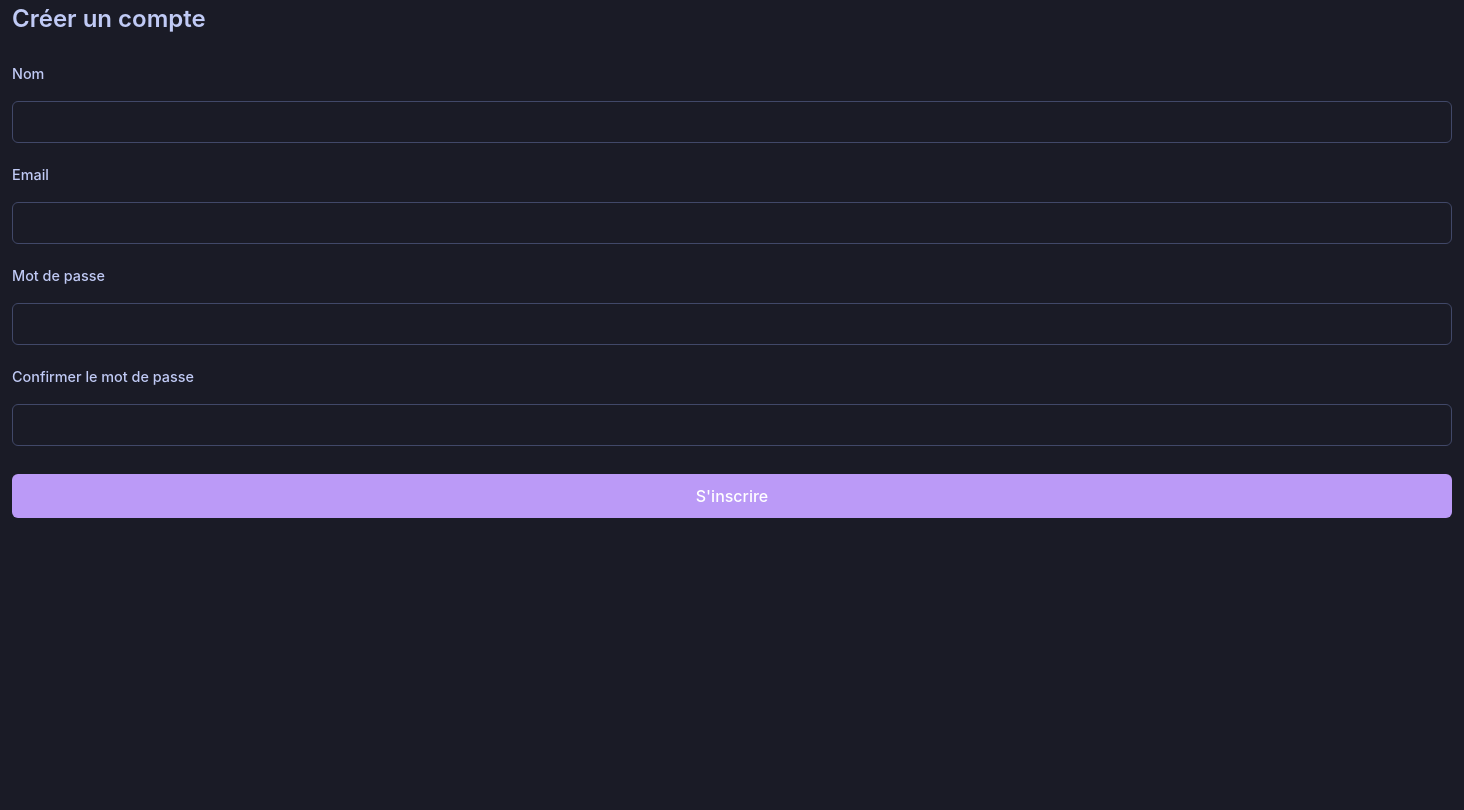
Test: RegisterForm › devrait valider que les mots de passe correspondent
The image size is (1464, 810).
Type "John Doe" into the field named "nom" at point(732, 122), box [12,101,1452,143]
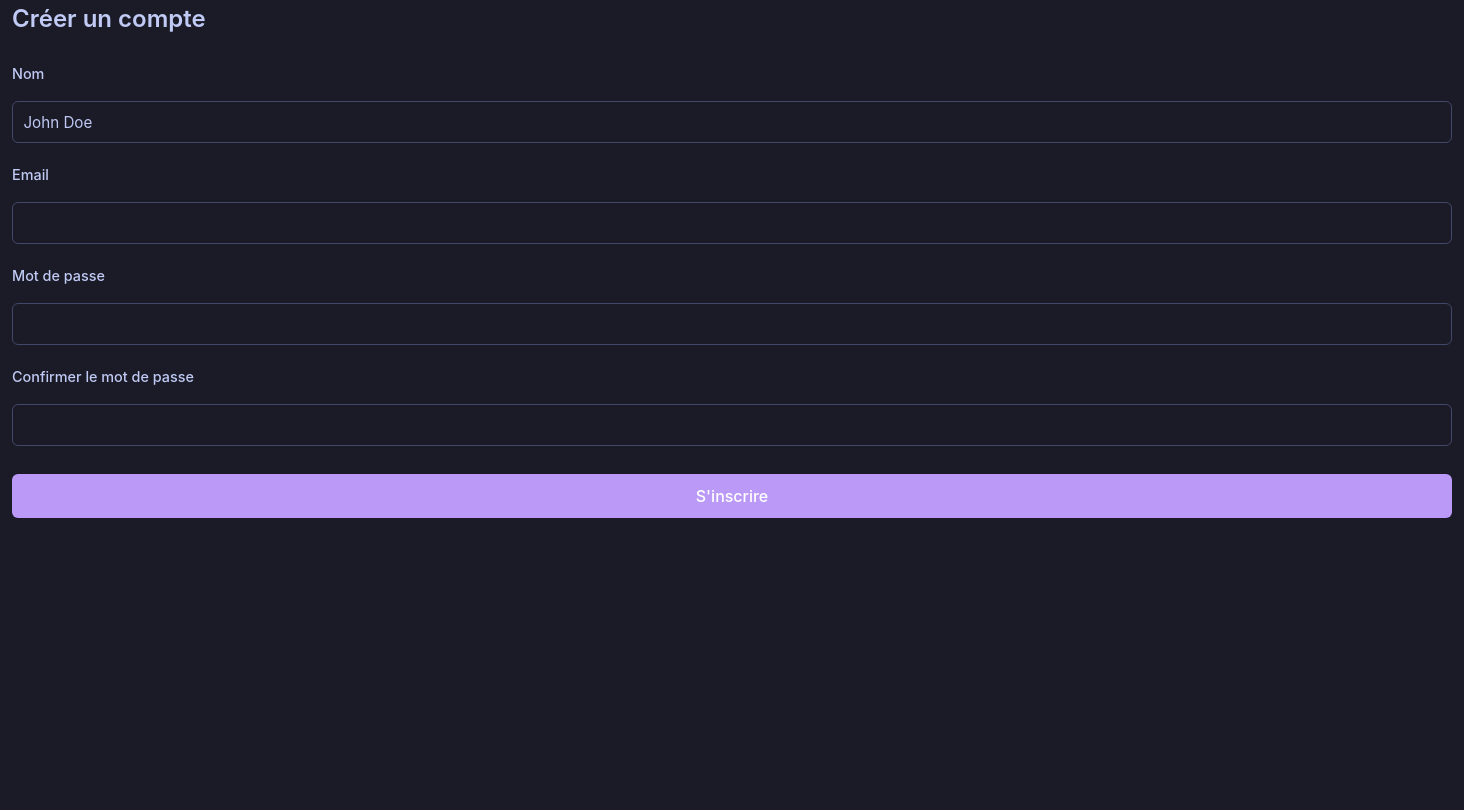
Type "test@example.com" into the field labelled "Email" at point(732, 223), box [12,202,1452,244]
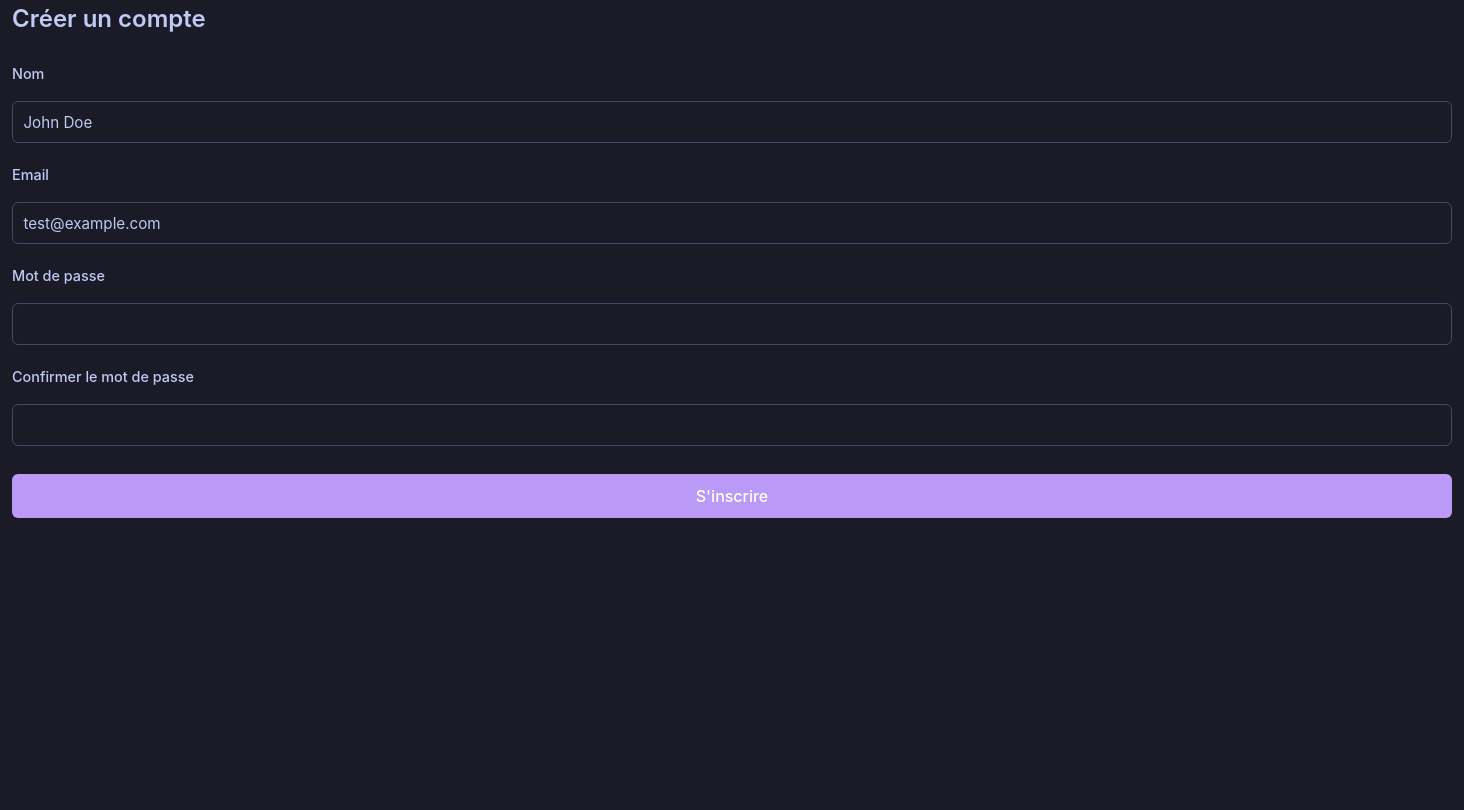
Type "Password123!" into the password field named "password" at point(732, 324), box [12,303,1452,345]
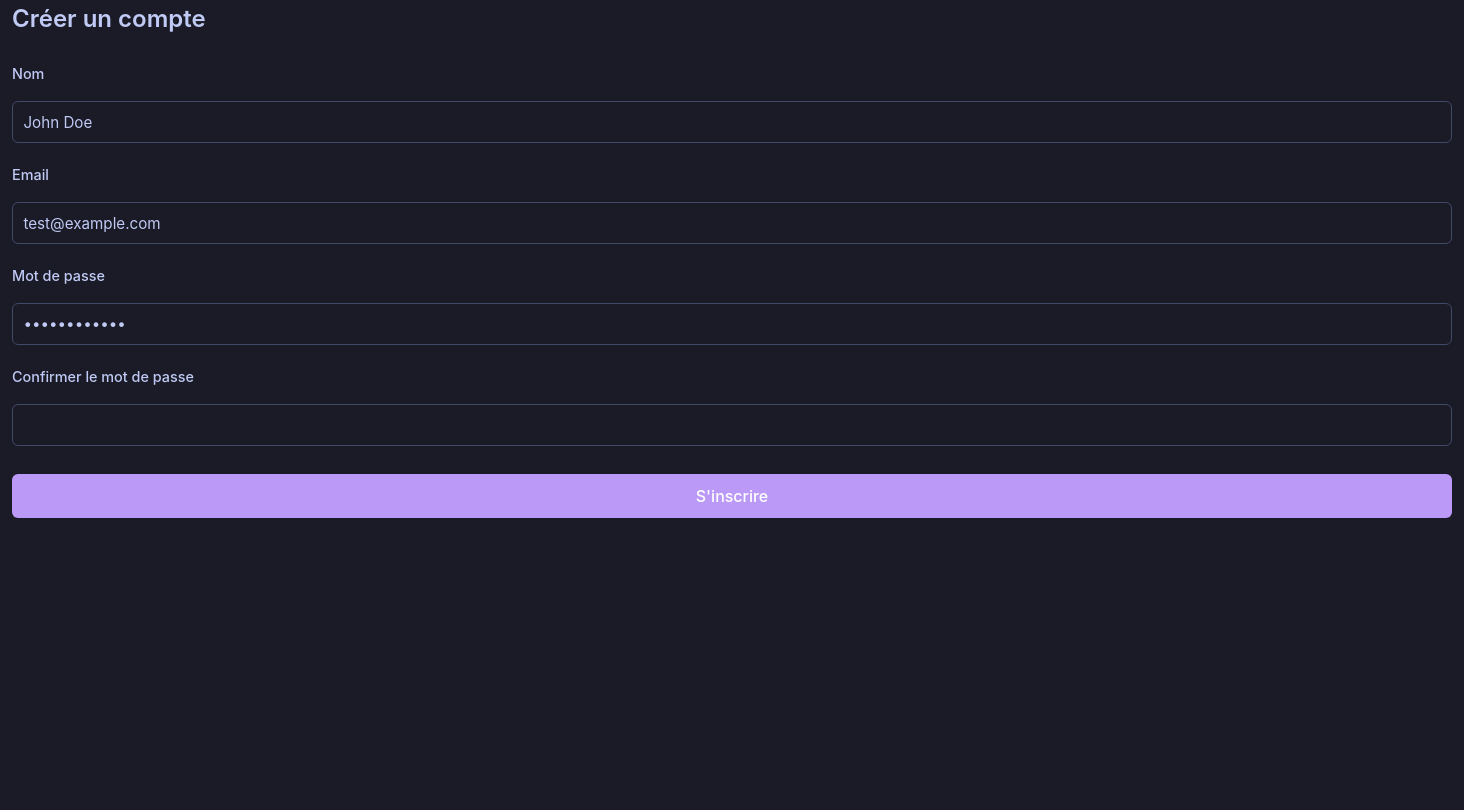
Type "DifferentPassword" into the password field named "confirmPassword" at point(732, 425), box [12,404,1452,446]
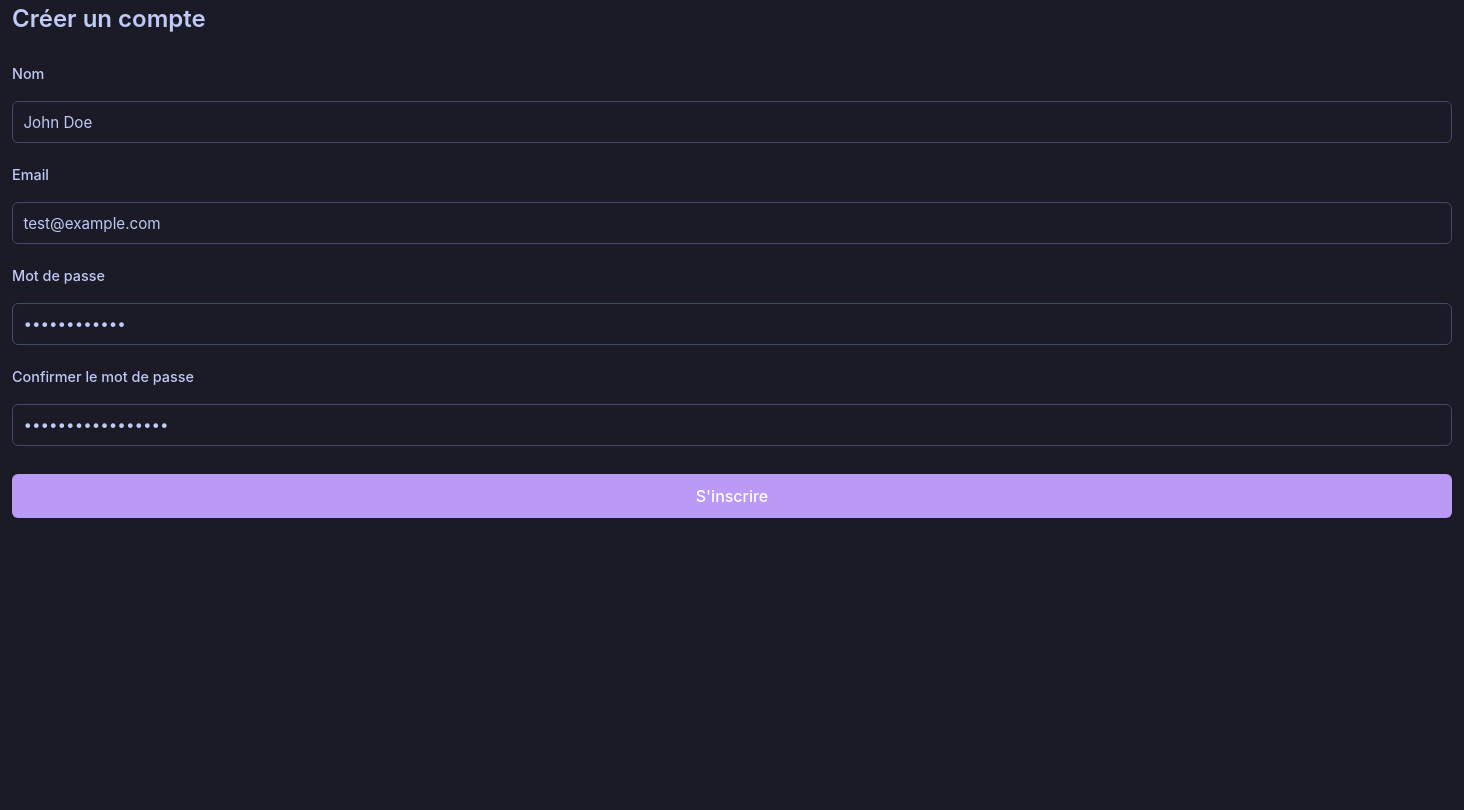
Submit the form
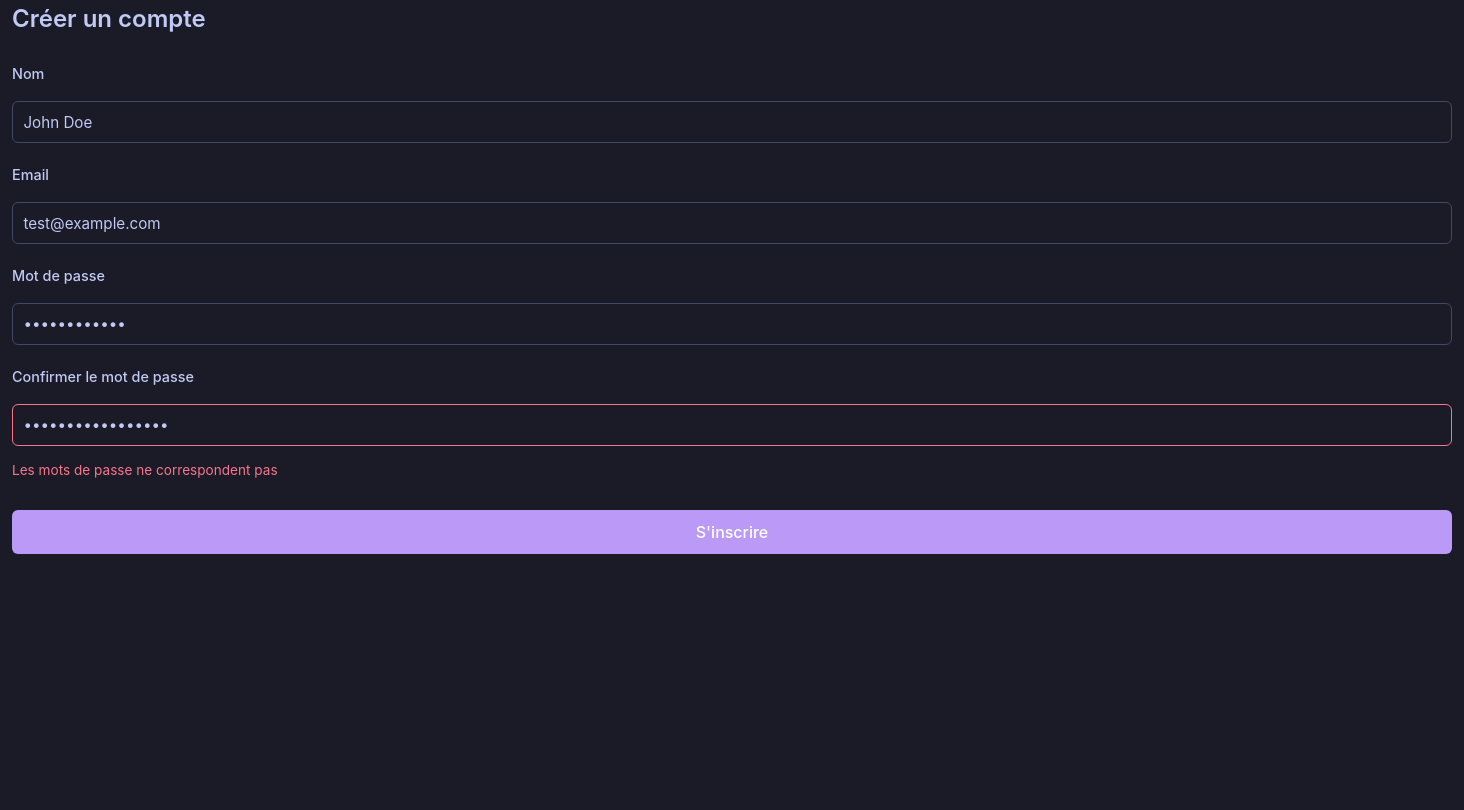
Result: the form shows "ne correspondent pas" at [12,462,278,478]
